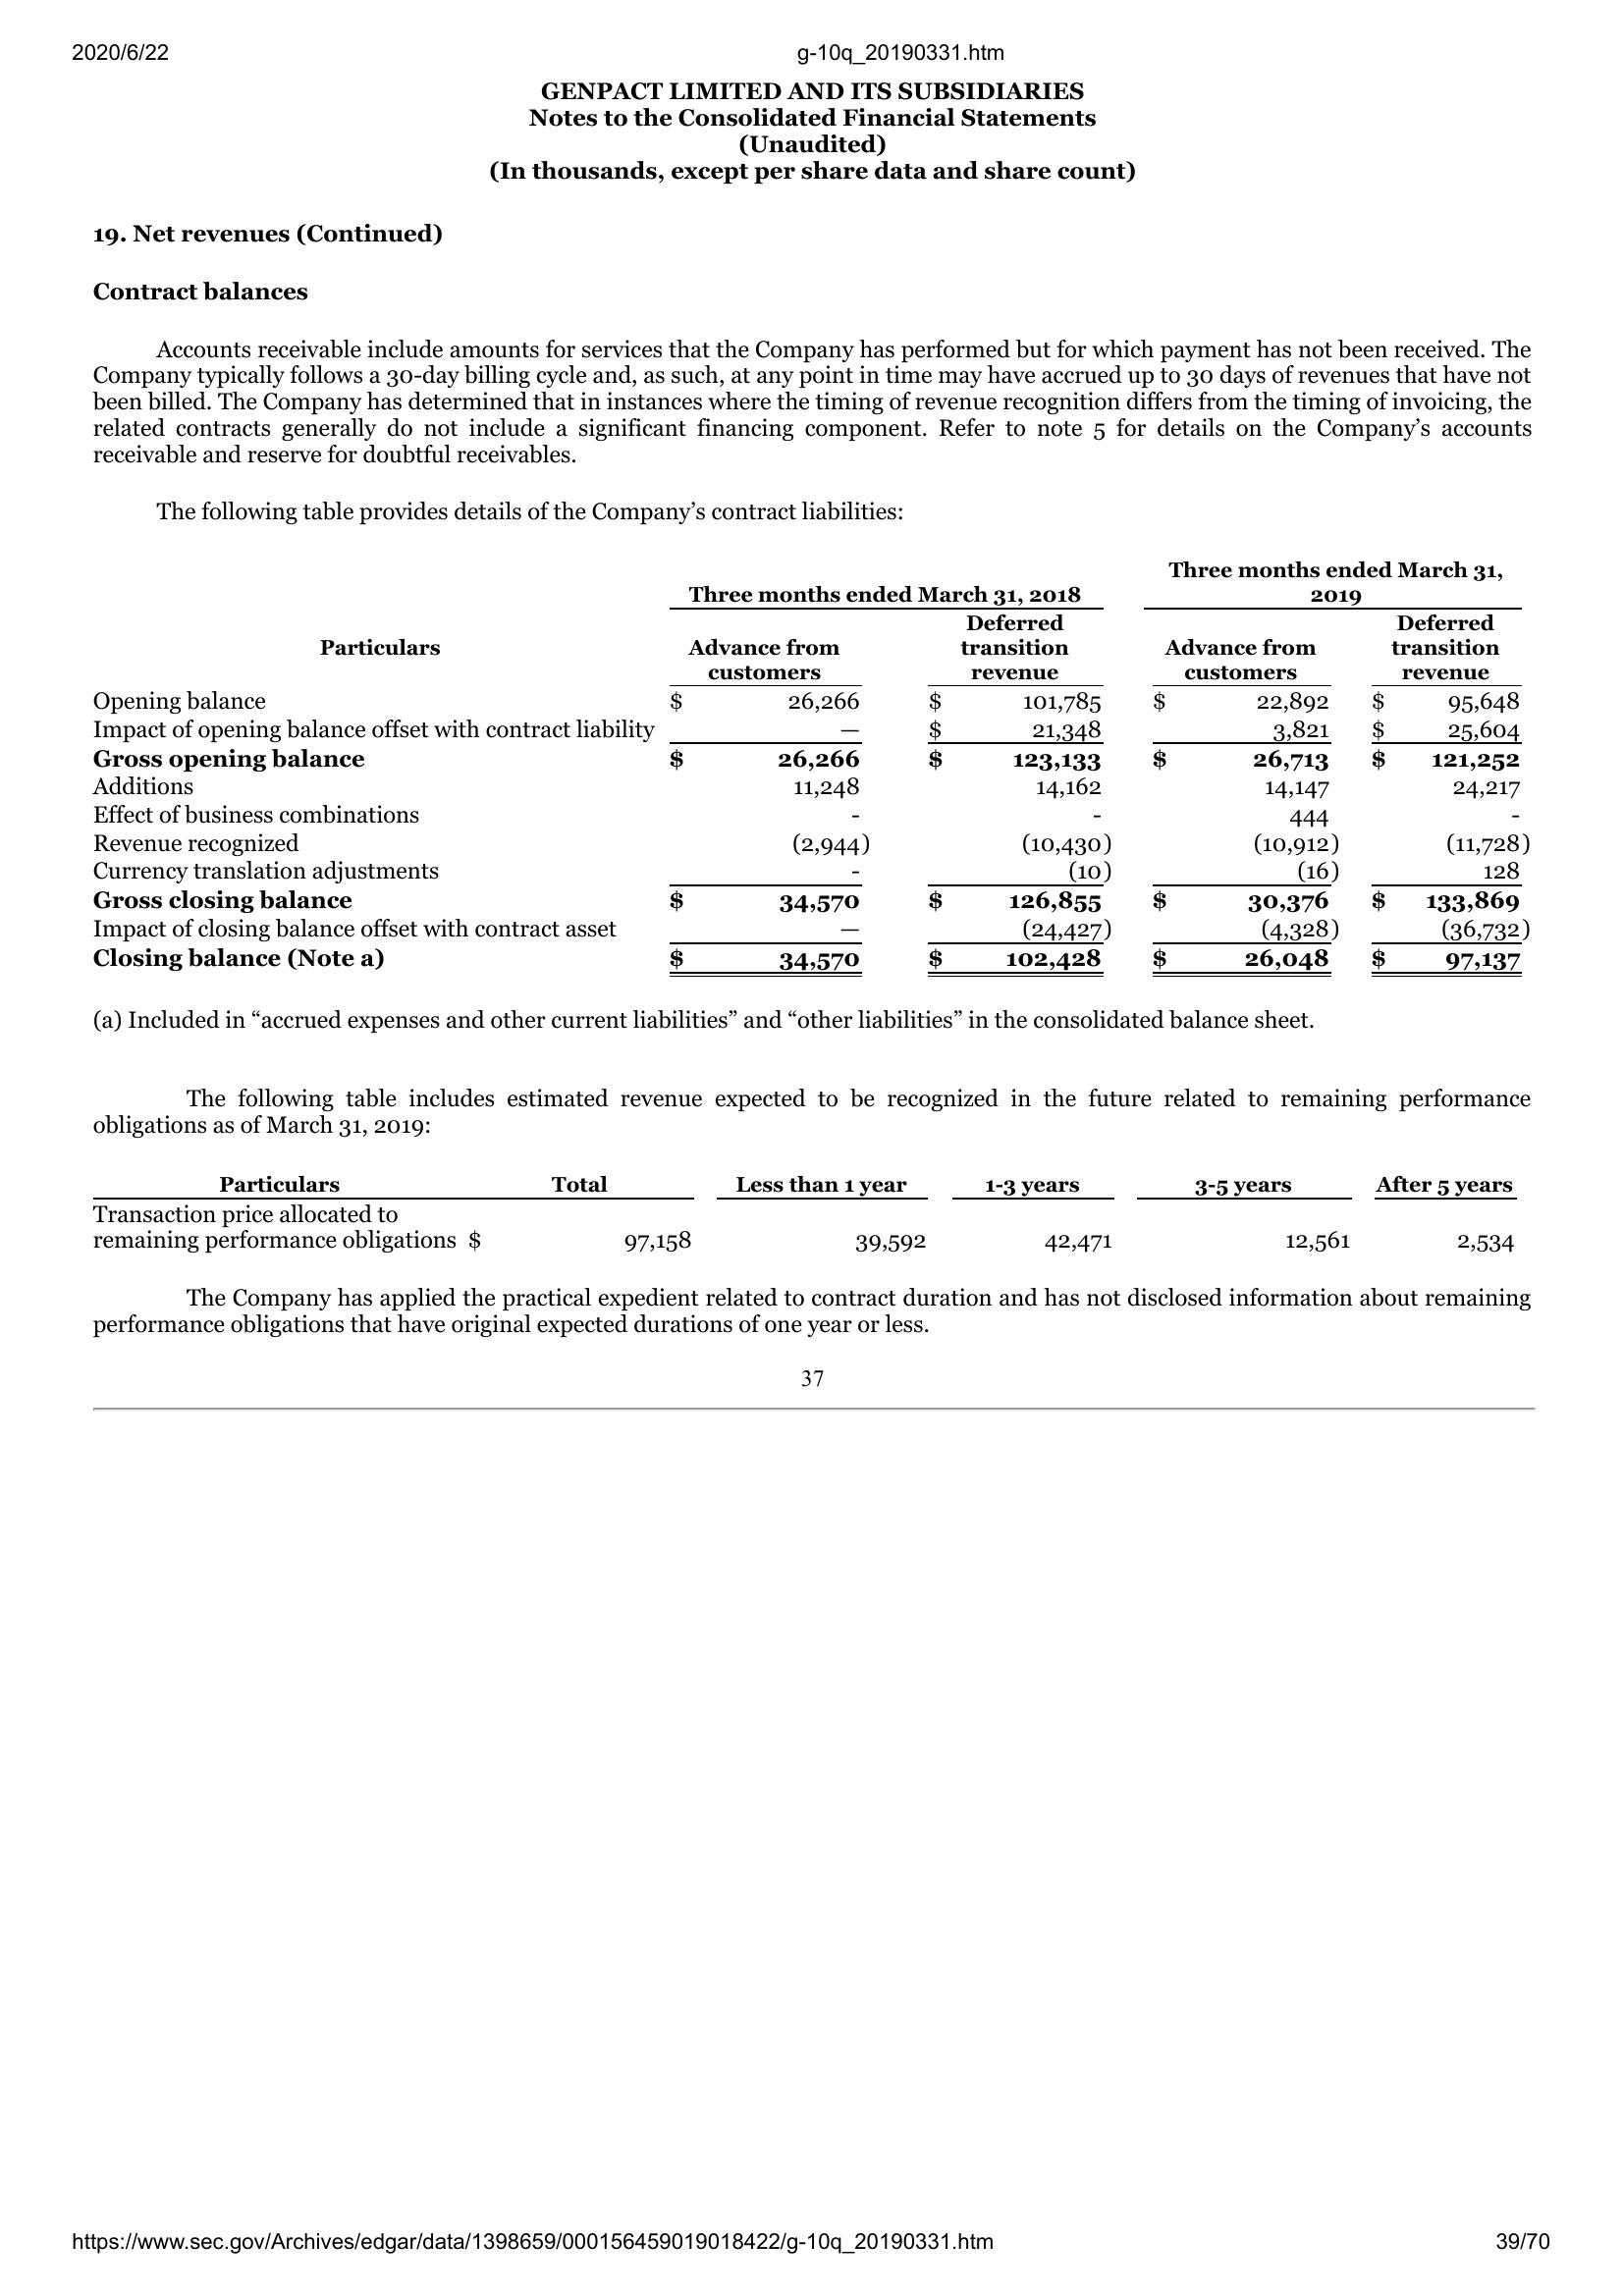table: (83, 553, 1533, 979), (88, 1162, 1533, 1260)
